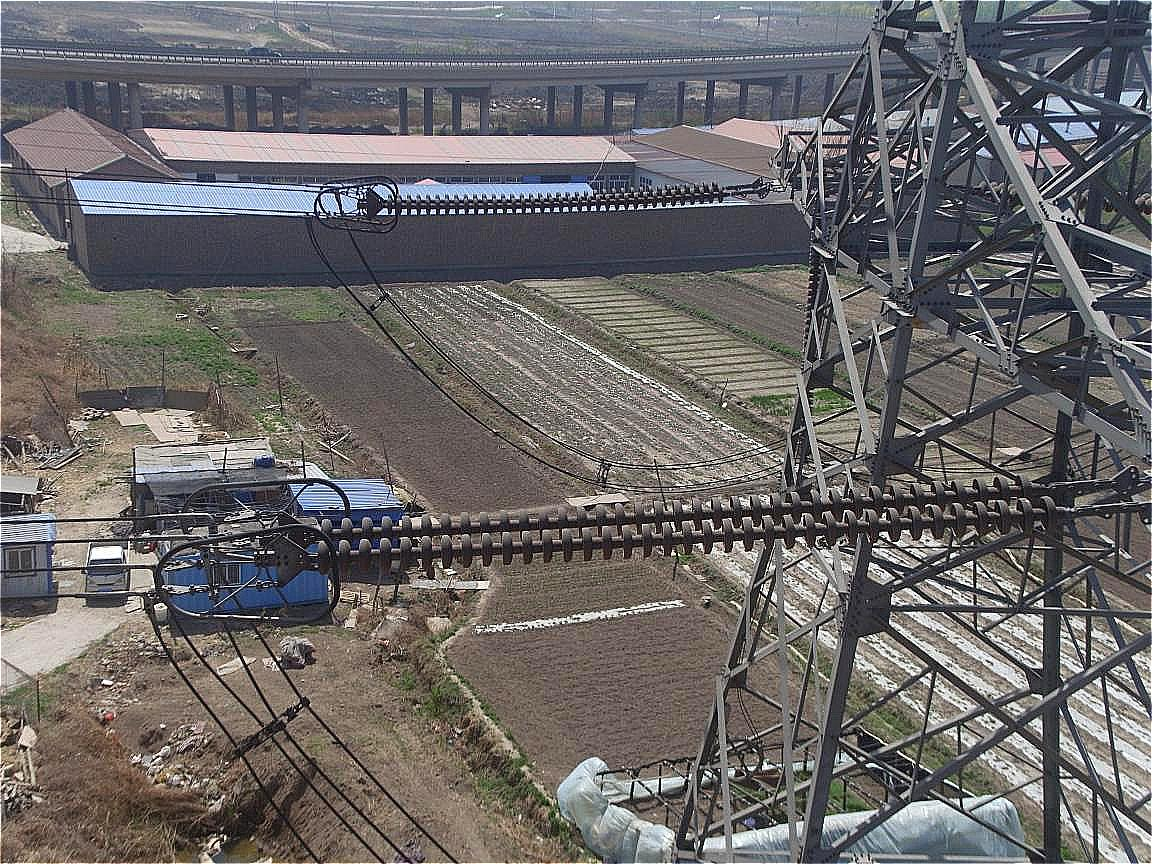insultor1: (316, 469, 1075, 570), (378, 178, 735, 221)
